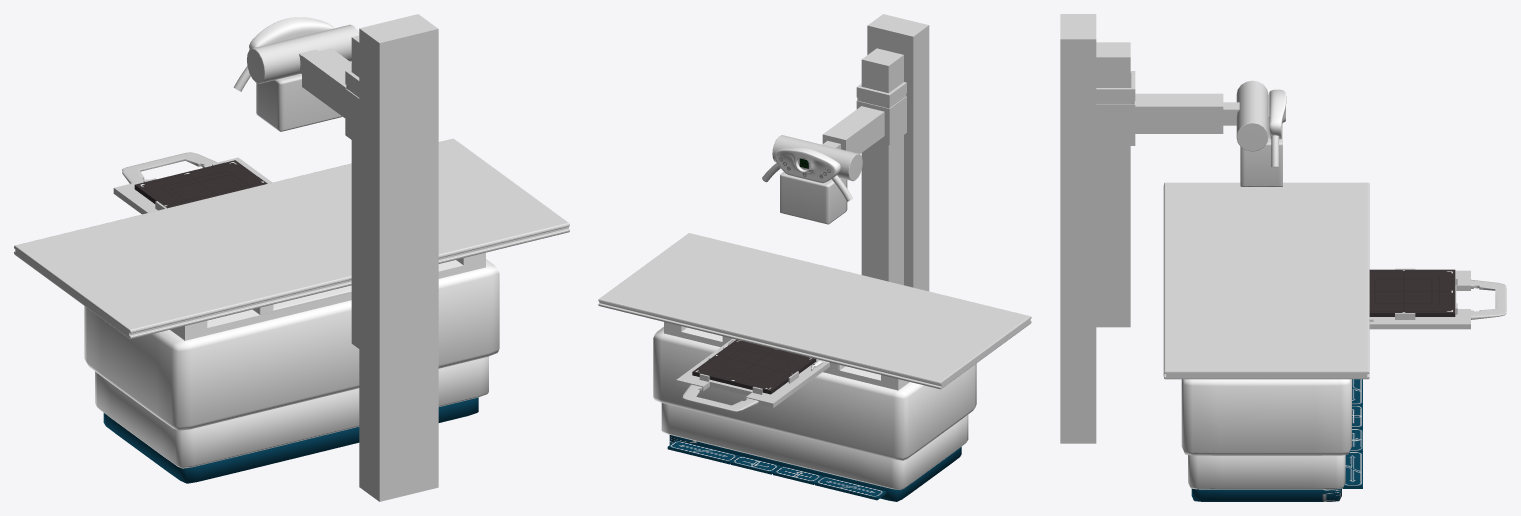
File: X_ray_2.fbx
The picture shows the model from 3 angles, left to right: view 1: azimuth 30°, elevation 25°; view 2: azimuth 150°, elevation 25°; view 3: azimuth 270°, elevation 25°; orthographic projection. The views are drawn at different scales.
Parts seen in each view (by area): view 1: Cube.012, Cube.014, Cube.002, Cube.001, Cube.020, cylinder.001, Cylinder.002, Cube.017, Cube.003, Cube.018, Cube.015, Retopo_Plane.003 (+4 smaller); view 2: Cube.012, Cube.002, Cube.001, Cube.014, Cube.015, cylinder.001, Cube.017, Cube.011, Cube.018, Cube.005, Cube.016, Cube.020 (+4 smaller); view 3: Cube.012, Cube.014, Cube.002, Cube.015, Cube.001, cylinder.001, Cube.018, Cube.016, Cylinder.002, Cube.020, Cube.005, Cube.017 (+3 smaller).
Part boxes in pixels (x1=…): Cube.012: x1=14, y1=138, x2=569, y2=339; Cube.014: x1=359, y1=14, x2=438, y2=501; Cube.002: x1=84, y1=259, x2=499, y2=430; Cube.001: x1=95, y1=356, x2=488, y2=468; Cube.020: x1=103, y1=397, x2=478, y2=483; cylinder.001: x1=134, y1=160, x2=267, y2=208; Cylinder.002: x1=247, y1=24, x2=359, y2=83; Cube.017: x1=256, y1=74, x2=342, y2=131; Cube.003: x1=170, y1=252, x2=485, y2=340; Cube.018: x1=302, y1=48, x2=351, y2=117; Cube.015: x1=351, y1=35, x2=359, y2=348; Retopo_Plane.003: x1=249, y1=17, x2=333, y2=49; Cube.012: x1=598, y1=233, x2=1031, y2=389; Cube.002: x1=653, y1=327, x2=976, y2=460; Cube.001: x1=661, y1=403, x2=968, y2=489; Cube.014: x1=867, y1=14, x2=929, y2=291; Cube.015: x1=861, y1=48, x2=903, y2=285; cylinder.001: x1=692, y1=339, x2=816, y2=394; Cube.017: x1=780, y1=172, x2=847, y2=224; Cube.011: x1=667, y1=440, x2=886, y2=500; Cube.018: x1=822, y1=106, x2=884, y2=153; Cube.005: x1=676, y1=339, x2=829, y2=407; Cube.016: x1=856, y1=82, x2=906, y2=145; Cube.020: x1=669, y1=435, x2=961, y2=501; Cube.012: x1=1163, y1=182, x2=1369, y2=379; Cube.014: x1=1060, y1=14, x2=1096, y2=443; Cube.002: x1=1181, y1=379, x2=1351, y2=455; Cube.015: x1=1096, y1=42, x2=1130, y2=327; Cube.001: x1=1188, y1=455, x2=1345, y2=489; cylinder.001: x1=1369, y1=269, x2=1455, y2=316; Cube.018: x1=1135, y1=93, x2=1223, y2=133; Cube.016: x1=1096, y1=71, x2=1135, y2=145; Cylinder.002: x1=1236, y1=80, x2=1268, y2=151; Cube.020: x1=1191, y1=488, x2=1341, y2=501; Cube.005: x1=1369, y1=270, x2=1470, y2=329; Cube.017: x1=1240, y1=117, x2=1282, y2=186.
Size of the model in its own units: 585 by 595 by 583.
6 materials, 3 textured.
